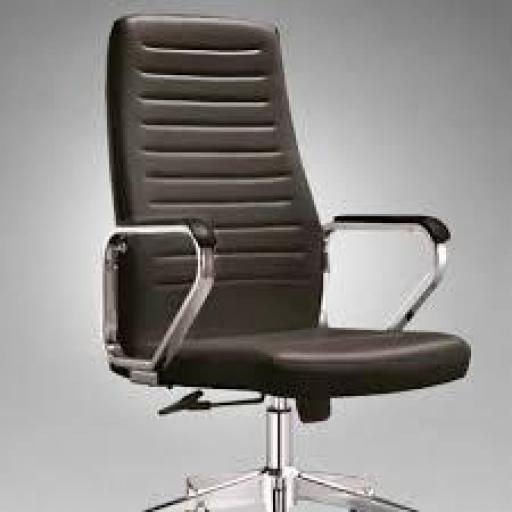chair: (92, 10, 477, 511)
